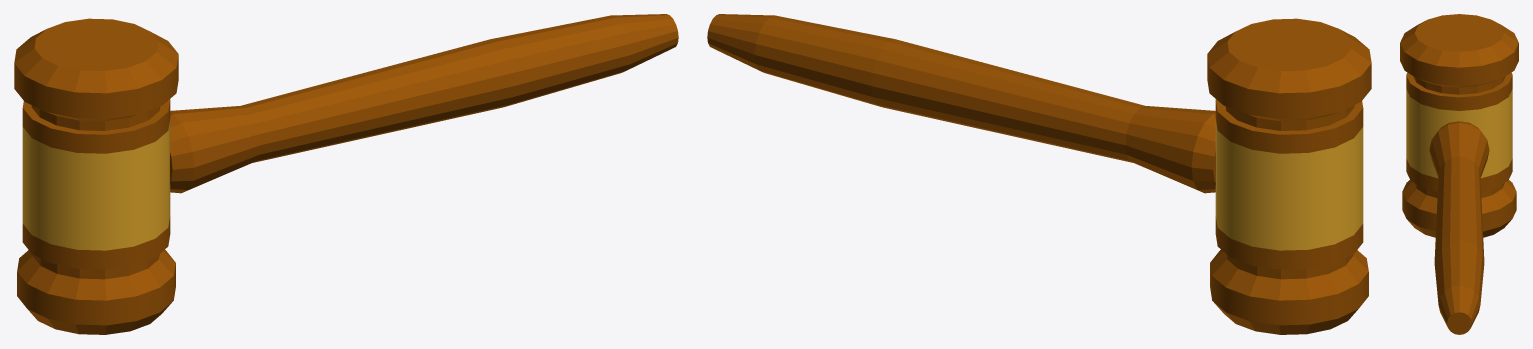
The model's file is gavel.fbx.
3 views of the same model, side by side, from view 1: azimuth 30°, elevation 25°; view 2: azimuth 150°, elevation 25°; view 3: azimuth 270°, elevation 25° (orthographic). The views are drawn at different scales.
Visible parts, largest first — view 1: Cylinder.001; view 2: Cylinder.001; view 3: Cylinder.001.
Part boxes in pixels (<box>): Cylinder.001: <box>14,14,678,334</box>; Cylinder.001: <box>707,14,1371,334</box>; Cylinder.001: <box>1400,14,1518,334</box>.
Size of the model in its own units: 543 by 211 by 121.
